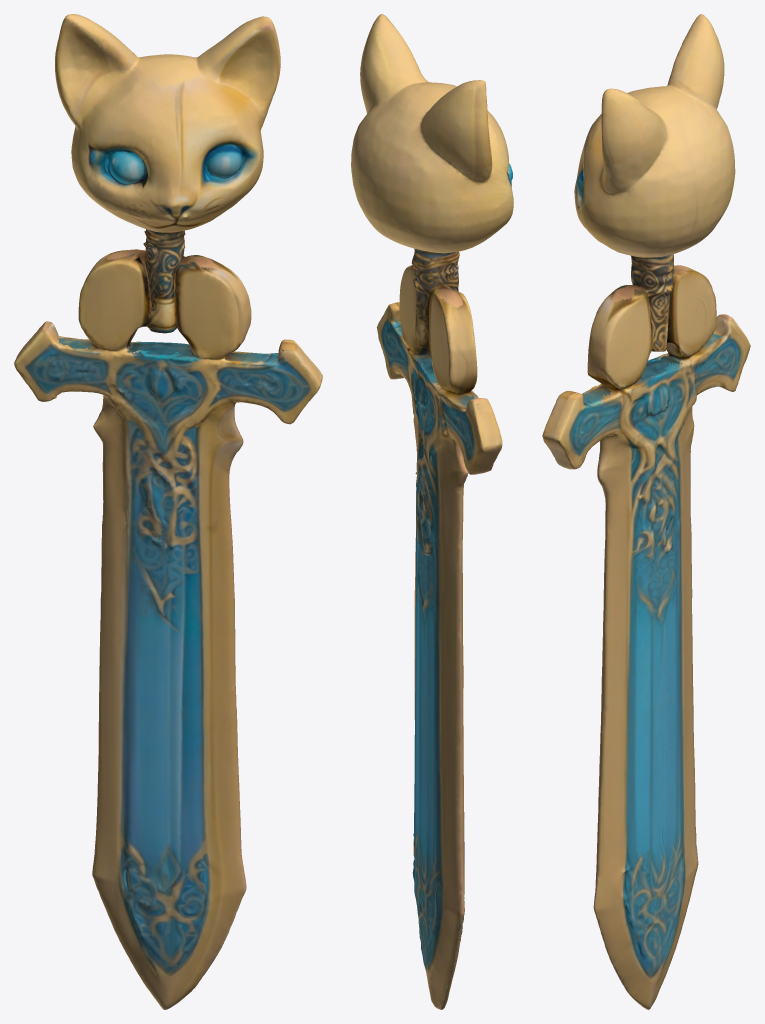
Rendered from sword.glb.
3 renders of one model, left to right at view 1: azimuth 30°, elevation 25°; view 2: azimuth 150°, elevation 25°; view 3: azimuth 270°, elevation 25°, orthographic. The views are drawn at different scales.
Bounding box in the file's own units: 0.4588 × 1.99 × 0.3909.
1 material, 1 textured.
